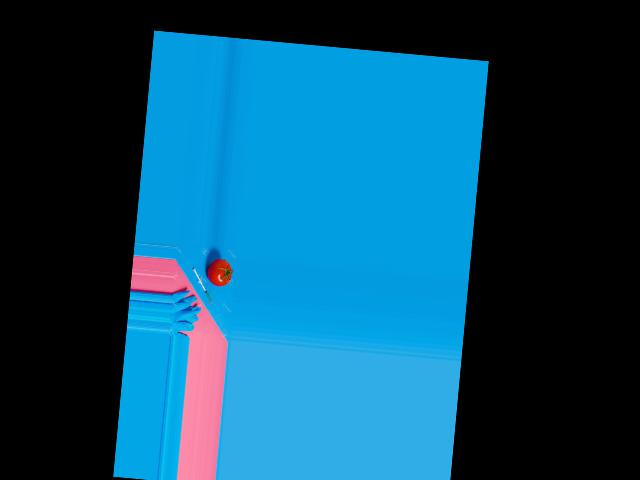tomato: (205, 258, 232, 287)
